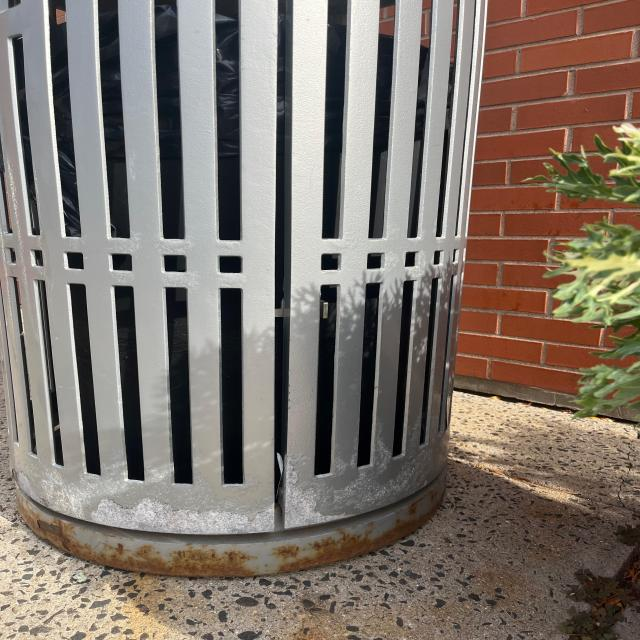Crevice Corrosion: (14, 467, 457, 581)
